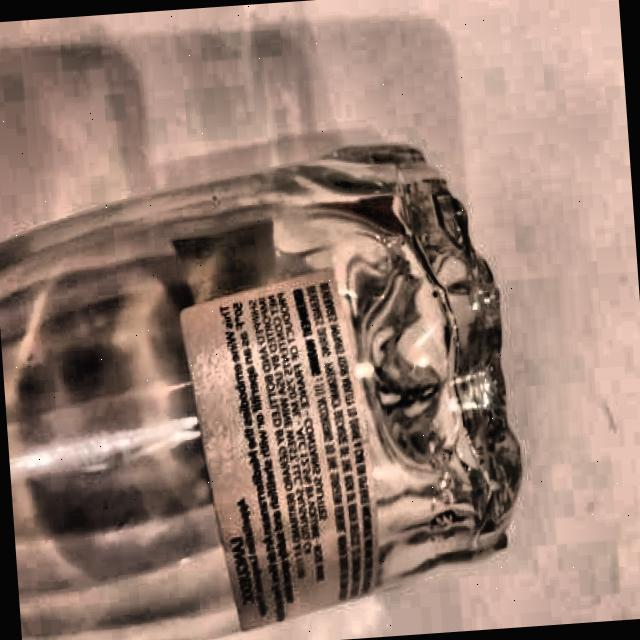glass: (0, 132, 527, 640)
